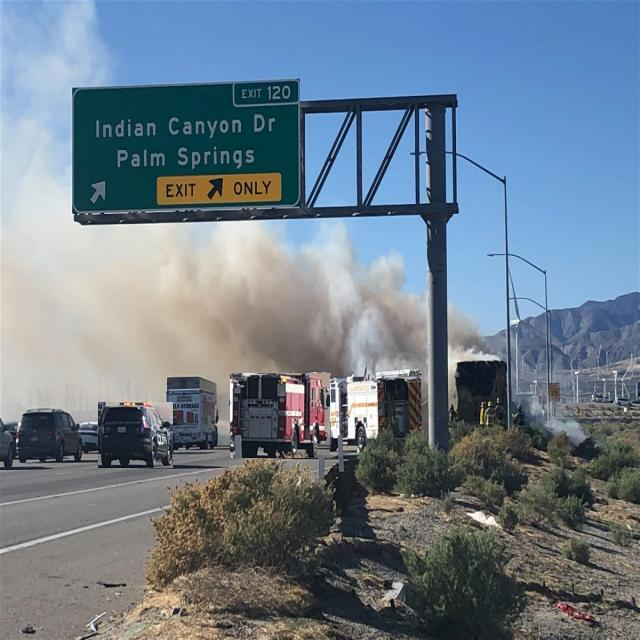car: (99, 402, 173, 468), (16, 408, 82, 463)
emergency: (230, 374, 330, 458), (326, 370, 421, 450)
truck: (166, 377, 219, 448)
